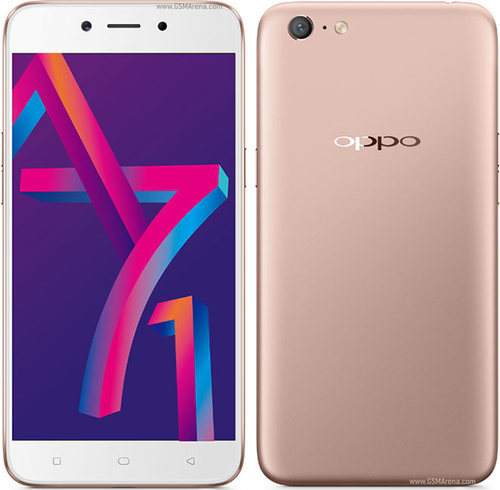mobile: (1, 1, 259, 488), (248, 1, 500, 485)
